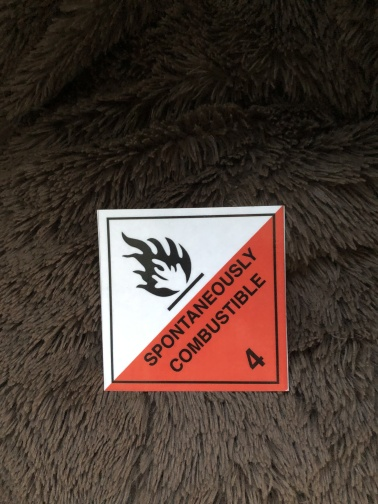SpontaneouslyCombustible: (96, 205, 289, 392)
